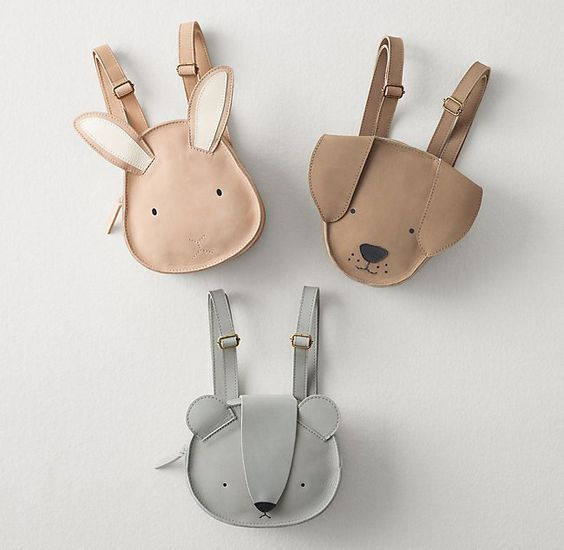cuero: (74, 21, 490, 528)
